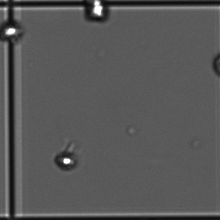Living Cell: (84, 1, 111, 22), (1, 21, 24, 43), (55, 150, 77, 172)
